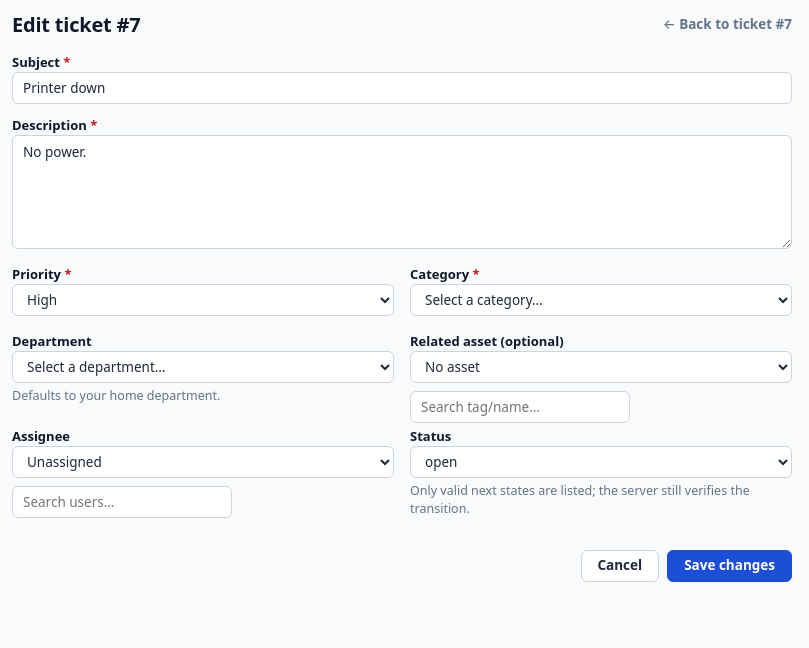
Test case: Ticket update — failed › handles server error on update
Check: the heading "Edit ticket #7" is shown, box x1=12 y1=12 x2=141 y2=37
Click the button "Save changes" at (730, 566), box x1=667 y1=550 x2=792 y2=582
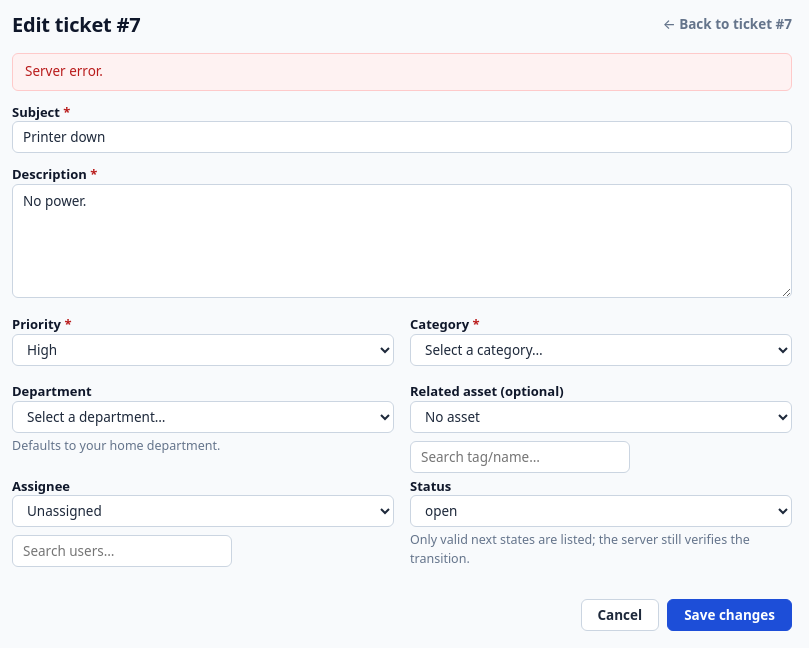
Check: the text "Server error." is shown, box x1=12 y1=53 x2=792 y2=91
